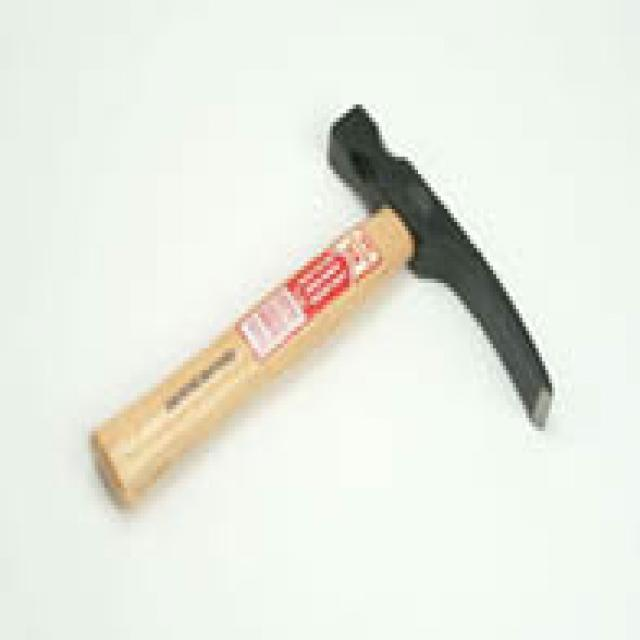hammer: (83, 90, 562, 514)
